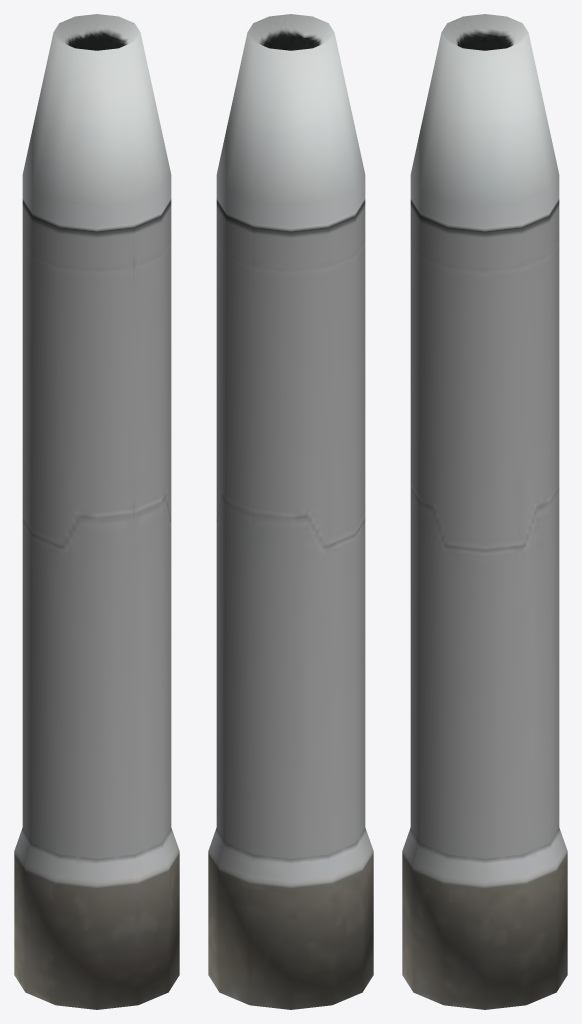
Rendered from Part - Tube 02-sb5rTt1B.glb.
3 renders of one model, left to right at view 1: azimuth 30°, elevation 25°; view 2: azimuth 150°, elevation 25°; view 3: azimuth 270°, elevation 25°, orthographic.
Parts seen in each view (by area): view 1: Tube_02; view 2: Tube_02; view 3: Tube_02.
Part boxes in pixels (<box>): Tube_02: <box>14,14,179,1009</box>; Tube_02: <box>208,14,373,1009</box>; Tube_02: <box>402,14,567,1009</box>.
Bounding box in the file's own units: 0.5812 × 3.66 × 0.5812.
1 material, 1 textured.
